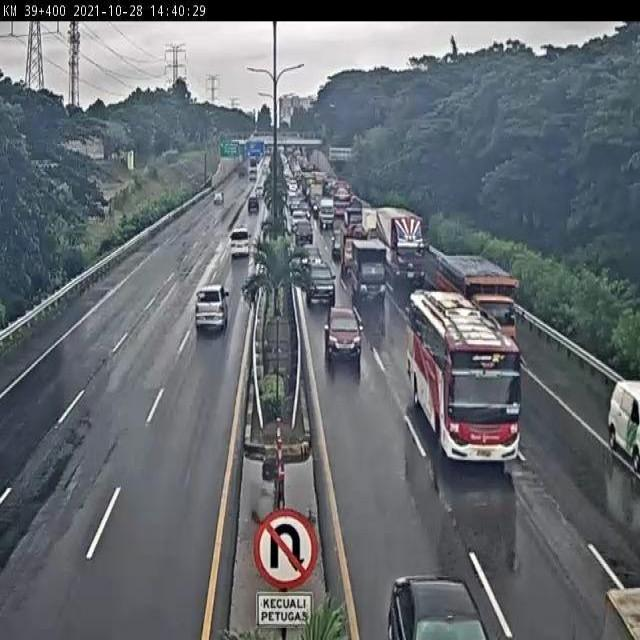bus-l-: (407, 292, 523, 469)
car: (190, 280, 229, 331), (323, 303, 360, 352), (307, 258, 333, 298), (229, 232, 253, 263), (299, 244, 320, 271)
truck-l-: (433, 250, 518, 346), (374, 204, 426, 281)
truck-m-: (349, 235, 388, 301), (340, 224, 370, 273)
